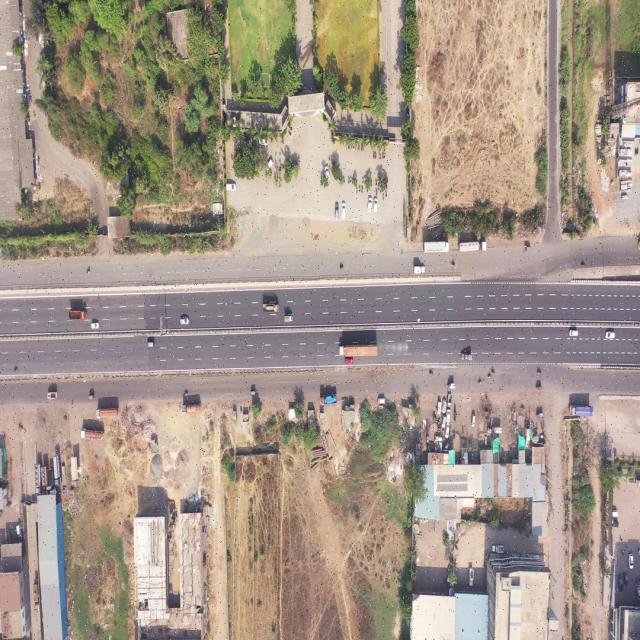3W: (536, 408, 545, 417), (447, 382, 456, 390), (536, 383, 543, 389), (250, 390, 256, 397), (525, 245, 530, 251), (89, 394, 95, 399)
Cars: (627, 551, 636, 569), (461, 352, 473, 363), (225, 182, 237, 192), (258, 135, 268, 147), (334, 202, 340, 221), (618, 573, 624, 591), (605, 330, 615, 340), (266, 157, 273, 171), (373, 197, 379, 213), (342, 201, 347, 220), (470, 413, 476, 428), (569, 329, 579, 338), (324, 166, 330, 180), (91, 321, 100, 330), (180, 317, 190, 325), (344, 358, 354, 366), (437, 400, 442, 414), (368, 197, 372, 213), (443, 397, 447, 413), (378, 395, 385, 403), (147, 341, 155, 348), (442, 414, 446, 427), (447, 409, 450, 424)
LCV: (491, 542, 505, 554), (468, 565, 475, 587), (414, 265, 426, 274), (47, 391, 57, 400), (284, 315, 293, 323)
M2W: (428, 368, 435, 376), (339, 265, 345, 271), (537, 370, 542, 377), (491, 368, 496, 375), (451, 262, 456, 268), (478, 380, 483, 386), (185, 391, 189, 398), (362, 176, 365, 185), (375, 177, 378, 186), (382, 191, 385, 200), (276, 171, 279, 180), (358, 143, 361, 151), (14, 367, 18, 373), (375, 149, 377, 159), (581, 262, 585, 267), (348, 175, 350, 184), (359, 183, 361, 192), (384, 150, 386, 159), (343, 175, 345, 184), (352, 175, 354, 184), (488, 374, 491, 380), (379, 152, 381, 160), (356, 186, 358, 194), (361, 186, 363, 194), (87, 270, 91, 274), (353, 144, 355, 151)
MAV: (339, 344, 378, 357), (458, 240, 488, 252)
Truck: (80, 427, 105, 443), (423, 241, 450, 254), (568, 404, 593, 417), (96, 407, 121, 419), (182, 400, 201, 413), (319, 393, 338, 404), (68, 310, 87, 321), (263, 302, 280, 313)
